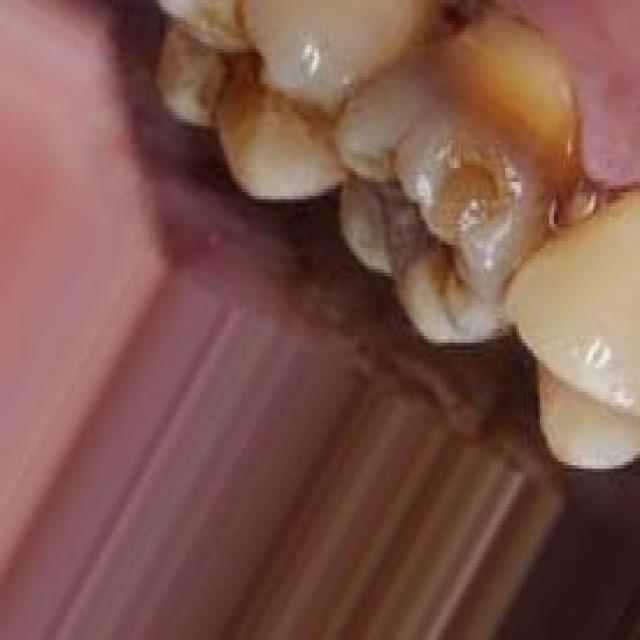caries: (371, 138, 522, 306)
